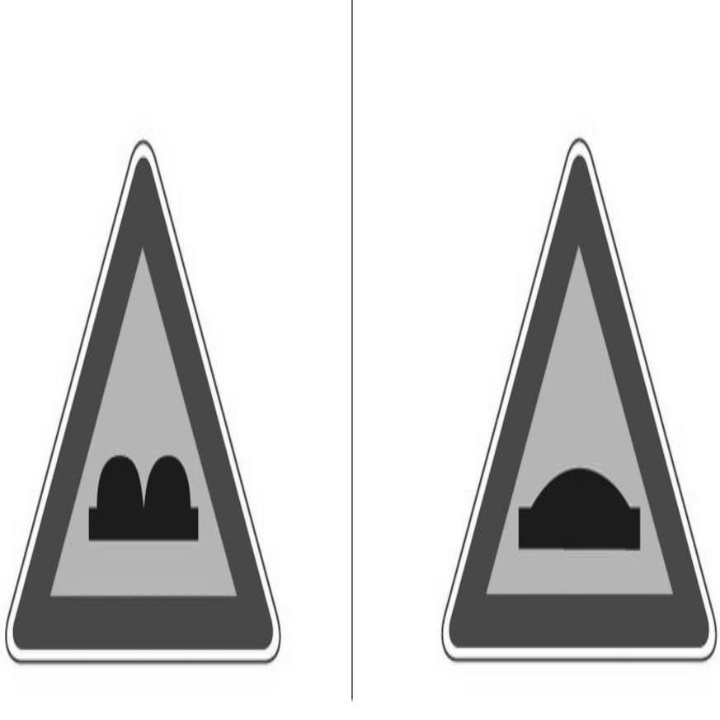bump: (496, 457, 658, 585)
